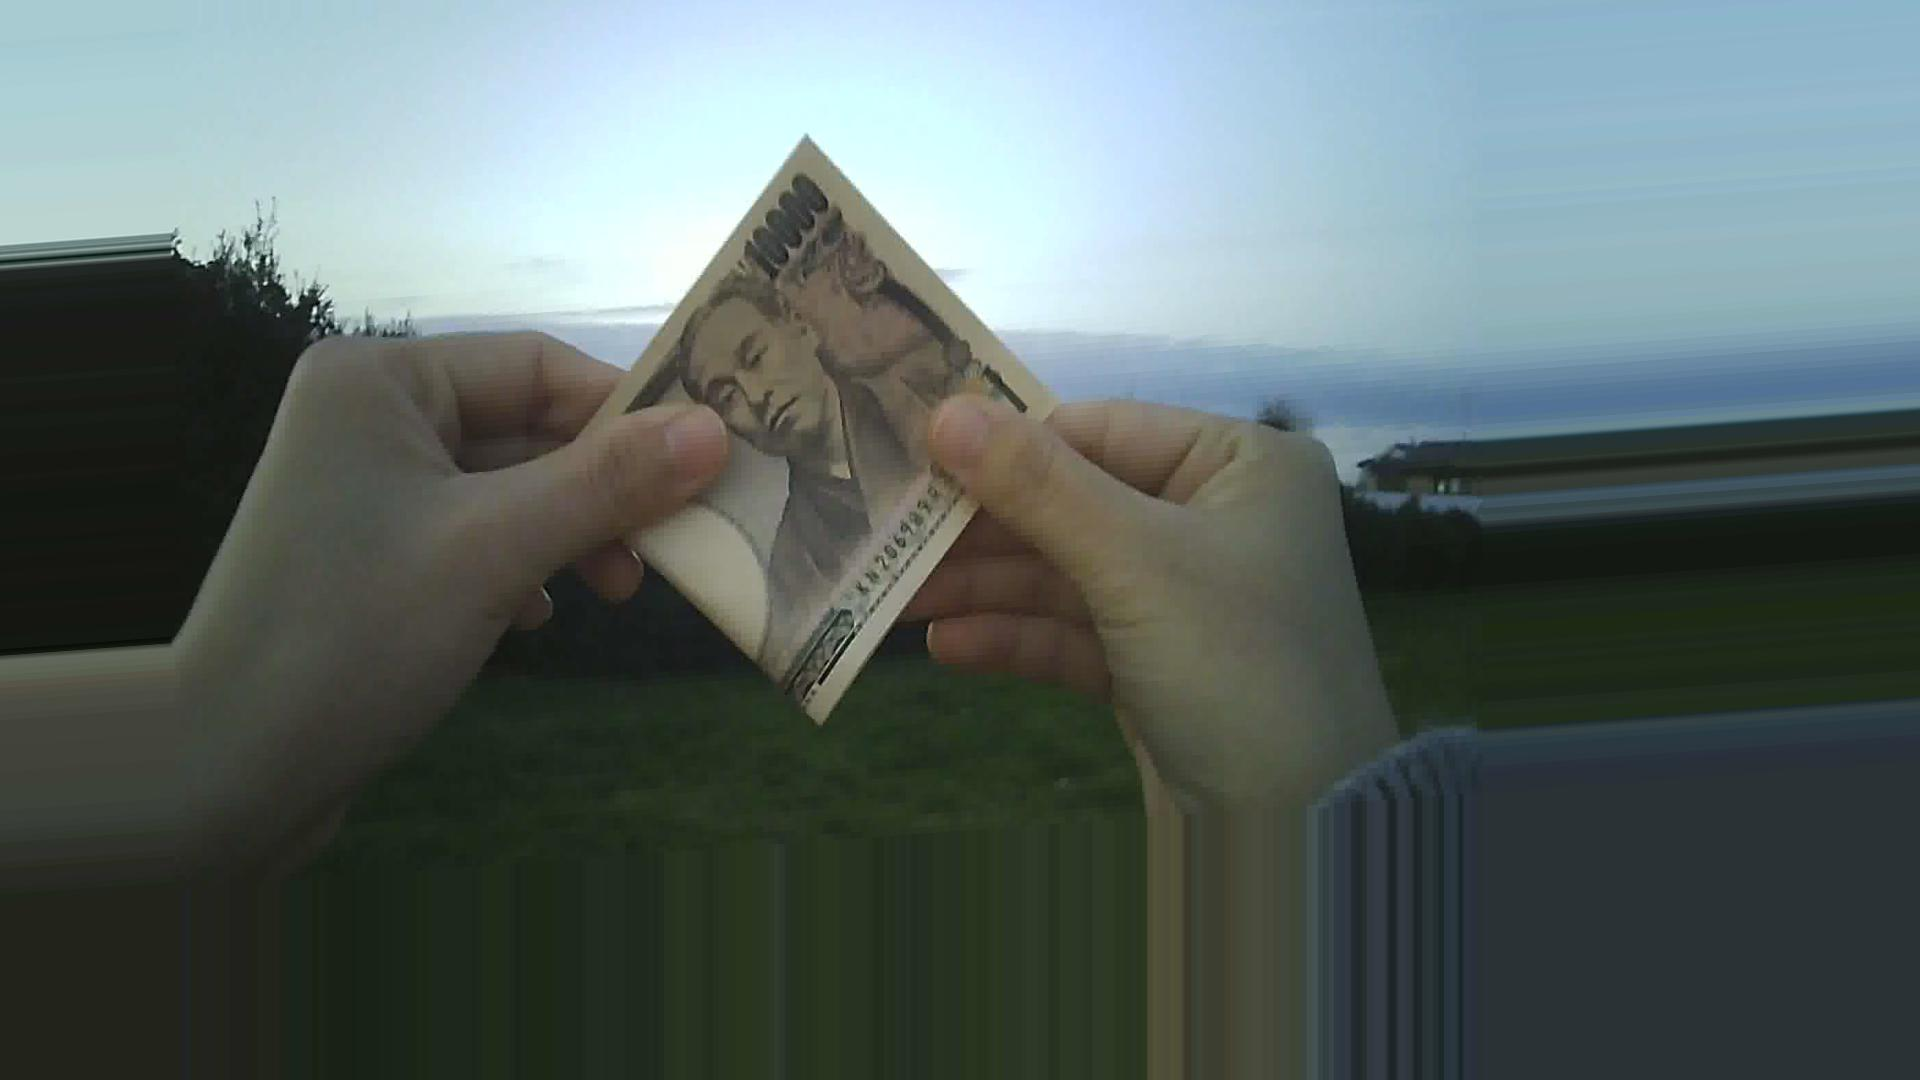10,000 Yen: (547, 138, 1033, 713)
